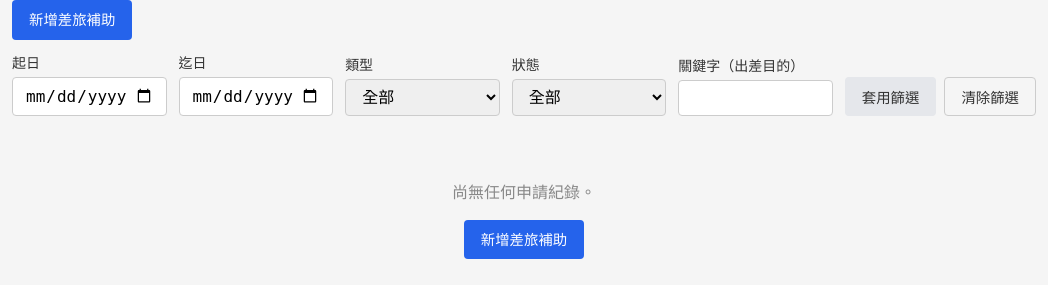
Test case: ApplicationListSection › 已作廢（PHASE-009-T15b） › AC-30(b)：狀態篩選選「已作廢」→ 請求帶 status=VOIDED 且可查得該筆
The image size is (1048, 285).
Expected: the text "尚無任何申請紀錄。" is shown, [452,182,596,202]
Select "已作廢" in the dropdown labelled "狀態" at coordinates (589, 97), box [512,79,666,116]
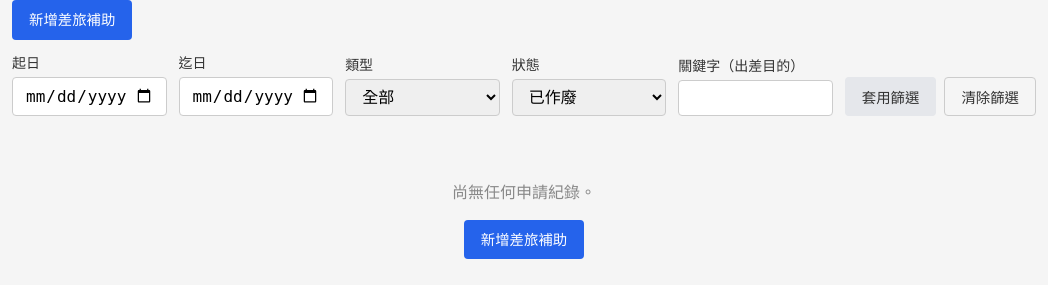
Click the button "套用篩選" at coordinates (891, 96), box [845,77,936,116]
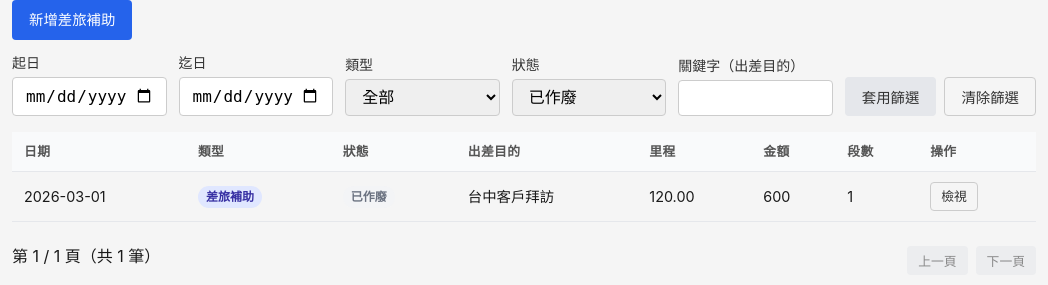
Now the text "台中客戶拜訪" is shown, box [456,171,637,222]
Now the text "已作廢" is shown, box [343,186,395,208]
